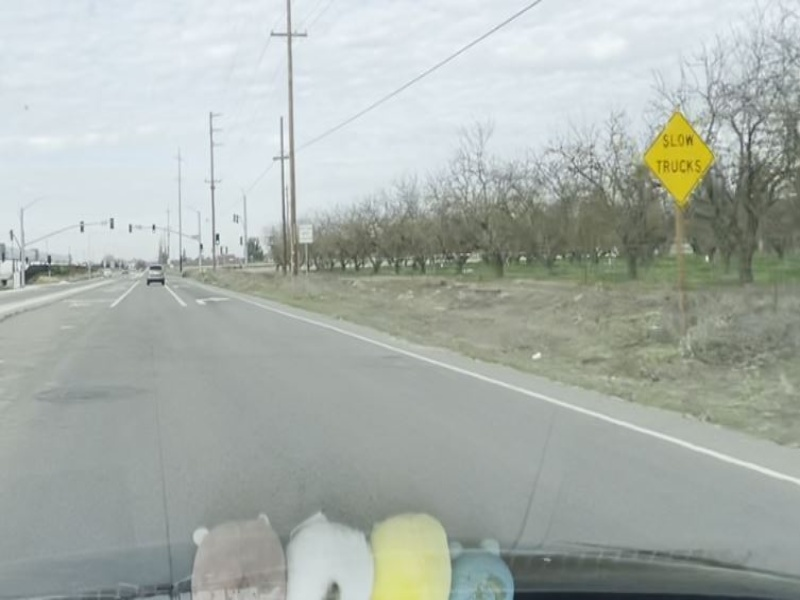slow truck sign: (642, 110, 716, 207)
